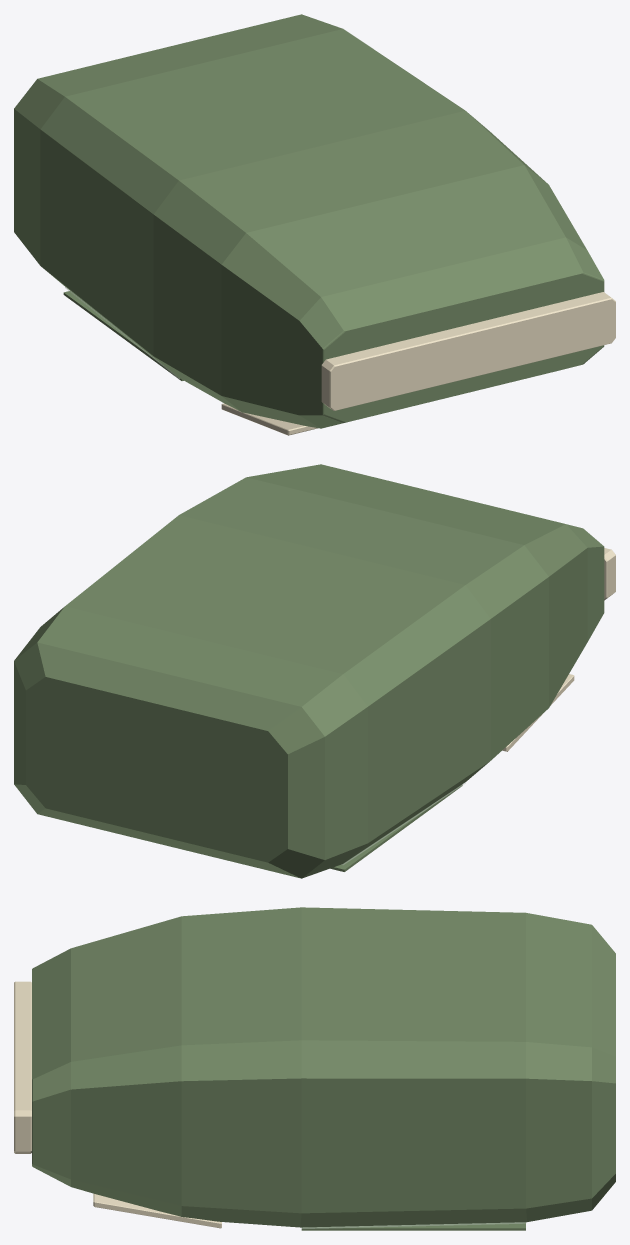
File: bay_leaves.glb
The picture shows the model from 3 angles, top to bottom: view 1: azimuth 30°, elevation 25°; view 2: azimuth 150°, elevation 25°; view 3: azimuth 270°, elevation 25°; orthographic projection. The views are drawn at different scales.
Parts seen in each view (by area): view 1: bay_leaves; view 2: bay_leaves; view 3: bay_leaves.
Boxes of the visible parts, x1,y1,x2,y2 form: bay_leaves: [14, 14, 615, 435]; bay_leaves: [14, 464, 615, 878]; bay_leaves: [14, 907, 615, 1230].
Bounding box in the file's own units: 0.0865 × 0.0494 × 0.1407.
